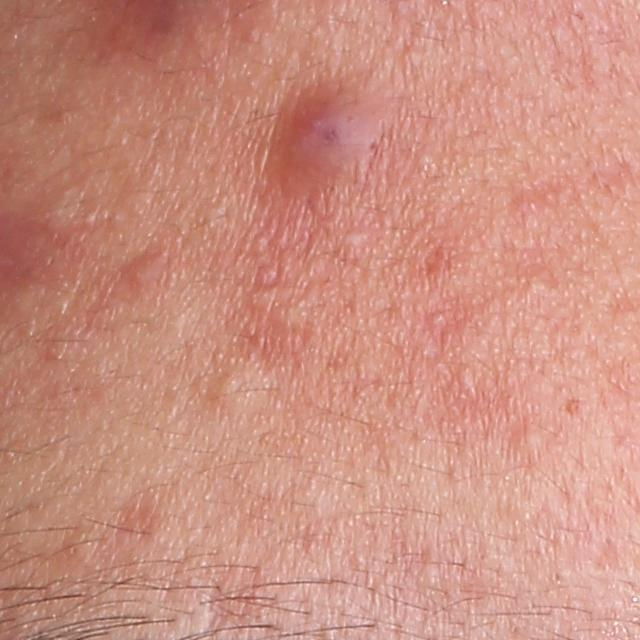comedo: (512, 420, 547, 456), (341, 224, 373, 260), (213, 370, 247, 403), (430, 311, 446, 324)
papule: (255, 78, 385, 193), (127, 245, 160, 297)
